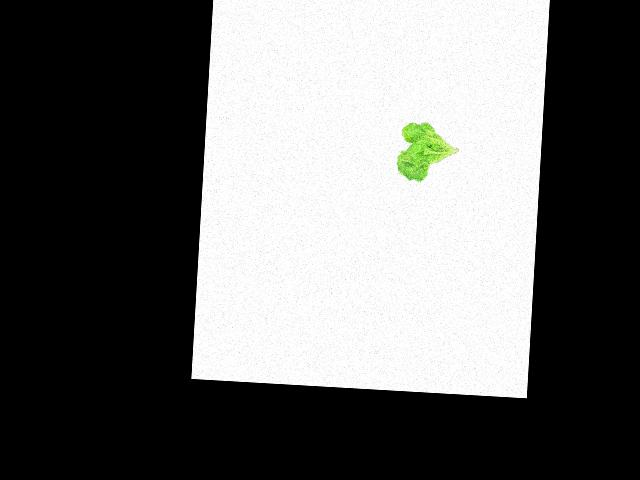lettuce: (392, 118, 462, 187)
